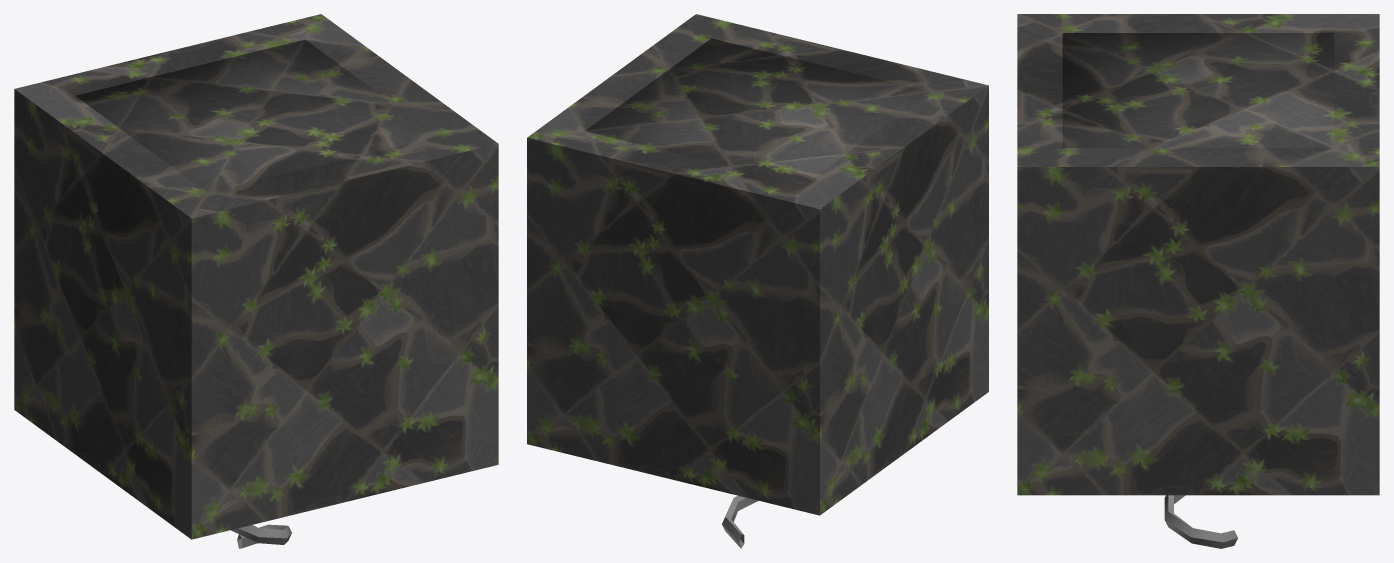
Rendered from Trap_01_litle.fbx.
3 renders of one model, left to right at view 1: azimuth 30°, elevation 25°; view 2: azimuth 150°, elevation 25°; view 3: azimuth 270°, elevation 25°, orthographic. The views are drawn at different scales.
Visible parts, largest first — view 1: Cube_04_02, Object097, Object084, Cube_03_01, Cube_03_02, Cube_01_01, Cube_01_07, Object099; view 2: Cube_01_02, Object097, Object084, Cube_03_01, Cube_03_02, Cube_01_01, Cube_01_07, Object099; view 3: Cube_02_02, Object097, Object084, Object099.
Boxes of the visible parts, <box> form: Cube_04_02: <box>191,143,498,539</box>; Object097: <box>75,39,437,192</box>; Object084: <box>15,14,497,218</box>; Cube_03_01: <box>103,154,191,378</box>; Cube_03_02: <box>103,314,191,539</box>; Cube_01_01: <box>14,249,102,474</box>; Cube_01_07: <box>14,89,102,313</box>; Object099: <box>231,524,291,548</box>; Cube_01_02: <box>527,138,819,515</box>; Object097: <box>585,38,930,184</box>; Object084: <box>527,14,988,208</box>; Cube_03_01: <box>904,85,988,300</box>; Cube_03_02: <box>904,239,988,453</box>; Cube_01_01: <box>820,301,904,515</box>; Cube_01_07: <box>820,148,904,361</box>; Object099: <box>722,495,758,548</box>; Cube_02_02: <box>1017,167,1379,495</box>; Object097: <box>1062,33,1334,147</box>; Object084: <box>1017,14,1379,166</box>; Object099: <box>1164,495,1237,548</box>.
Size of the model in its own units: 800 by 800 by 1110.
